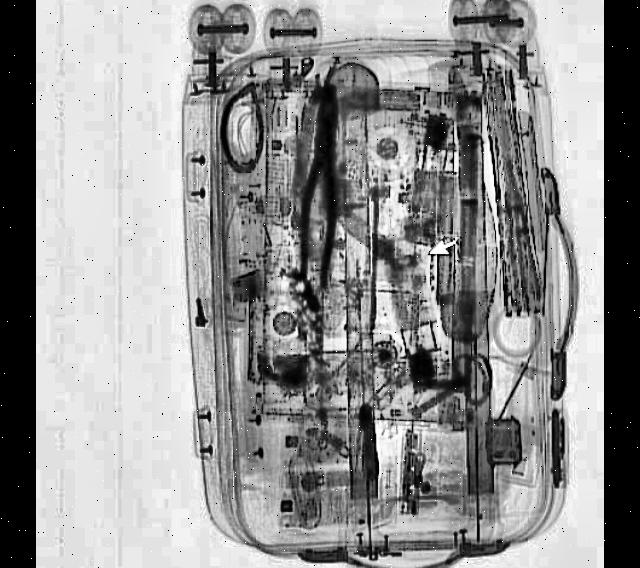Pliers: (295, 87, 345, 287)
